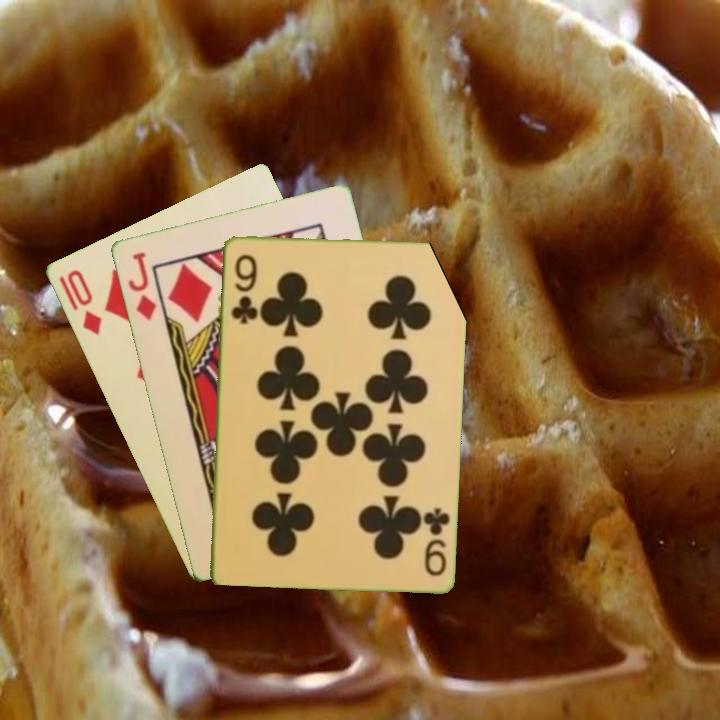10d: (62, 265, 104, 338)
9c: (419, 503, 453, 579), (227, 251, 259, 327)
Jd: (124, 248, 159, 324)
